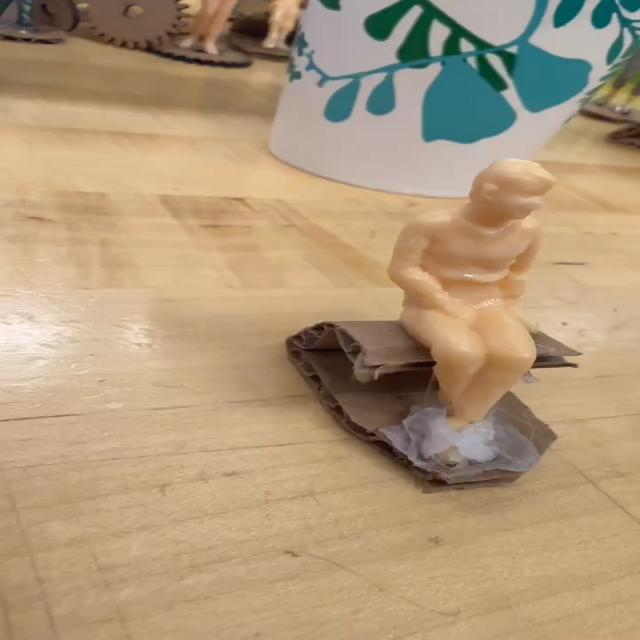Unauthorized: (387, 141, 563, 488)
